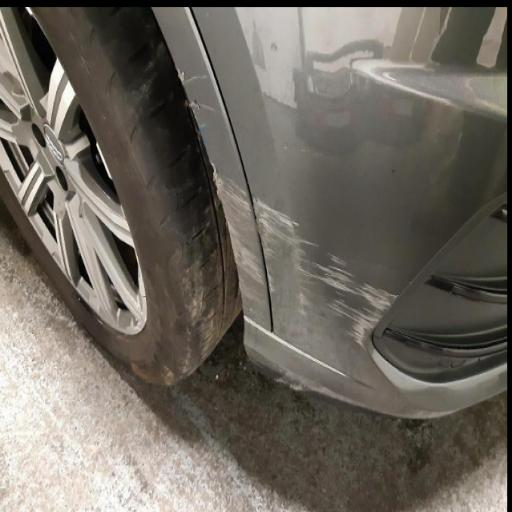scratch: (222, 178, 404, 350)
